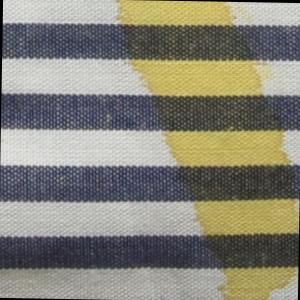Stain: (105, 1, 300, 300)
